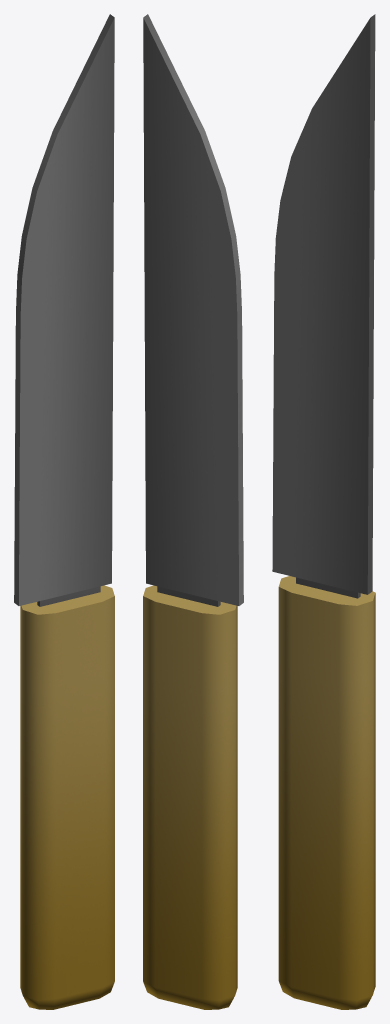
Rendered from SM_Dao.fbx.
3 views of the same model, side by side, from view 1: azimuth 30°, elevation 25°; view 2: azimuth 150°, elevation 25°; view 3: azimuth 330°, elevation 25° (orthographic). The views are drawn at different scales.
Visible parts, largest first — view 1: SM_Dao; view 2: SM_Dao; view 3: SM_Dao.
Part boxes in pixels (x1,y1,x2,y2): SM_Dao: (14, 14, 114, 1009); SM_Dao: (143, 14, 243, 1009); SM_Dao: (272, 14, 375, 1009).
Size of the model in its own units: 0.5669 by 5.52 by 0.2404.
